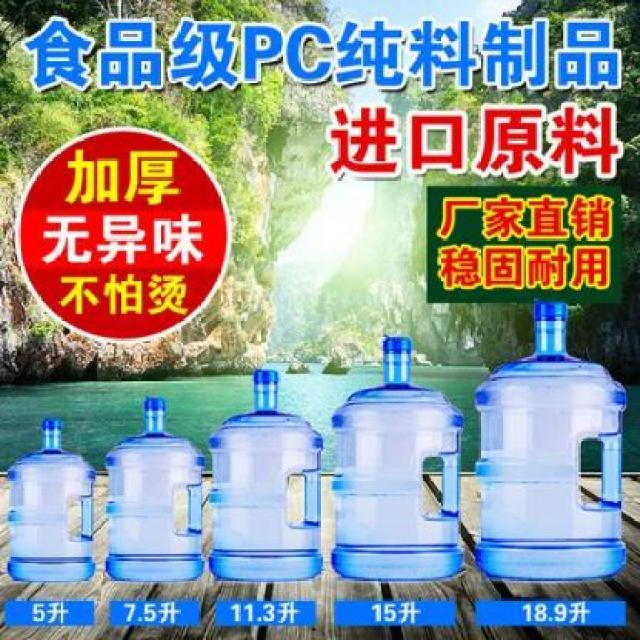coolerbottle: (472, 299, 633, 583), (328, 330, 468, 584), (207, 367, 326, 586), (100, 396, 205, 586), (5, 412, 100, 586)
